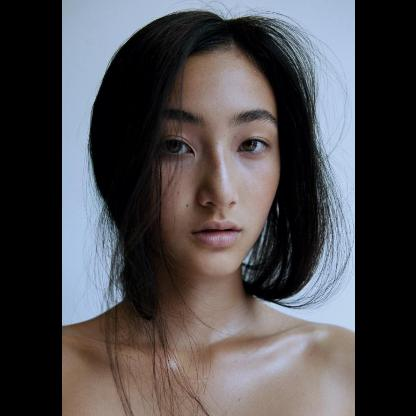Female: (151, 46, 281, 278)
